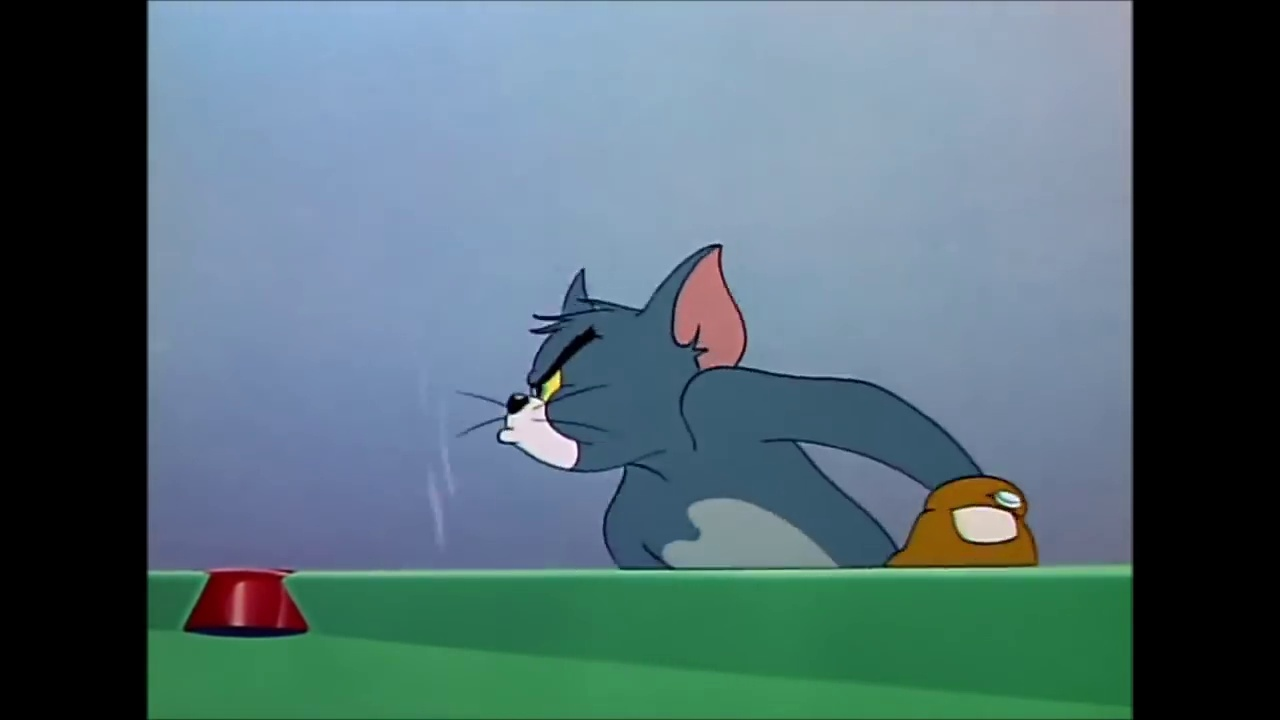angry: (499, 324, 600, 472)
